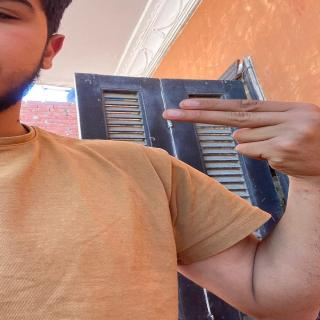AYN: (154, 87, 320, 181)
